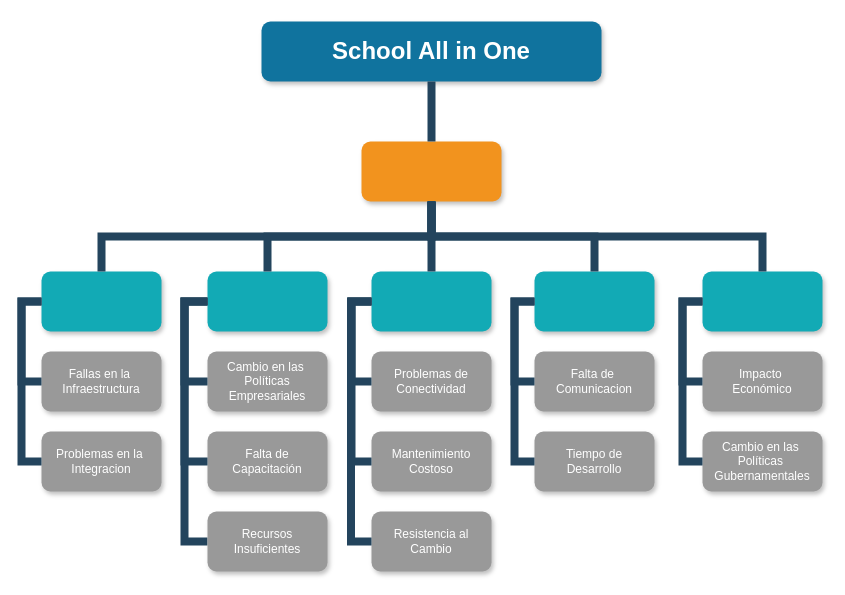
Some shapes in this 845 by 595 pixel diagram are drawn without their labels. Here are the shapes that lost their labels. From the top down, the centre of each, then its label:
At point 432,172: "Administración de Clases y Cursos".
At point 102,302: "Tecnico".
At point 268,302: "Organizacional".
At point 432,302: "Operativo".
At point 595,302: "Interno".
At point 763,302: "Externo".
